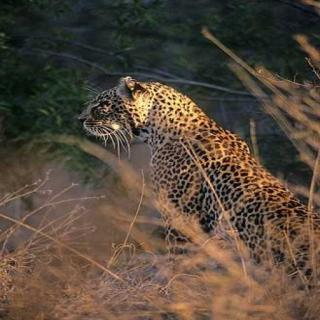Leopard: (70, 73, 320, 304)
